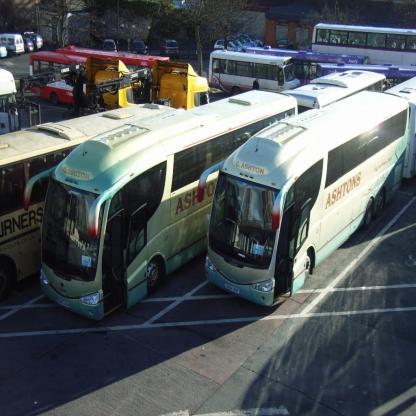Bus: (0, 24, 416, 322)
